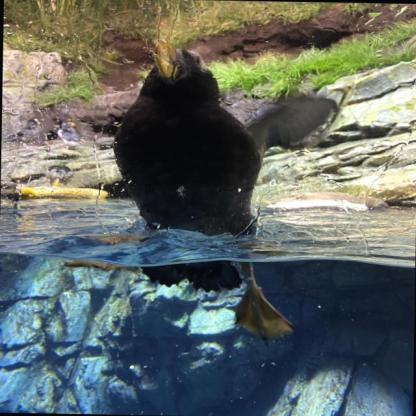puffin: (104, 40, 275, 236)
